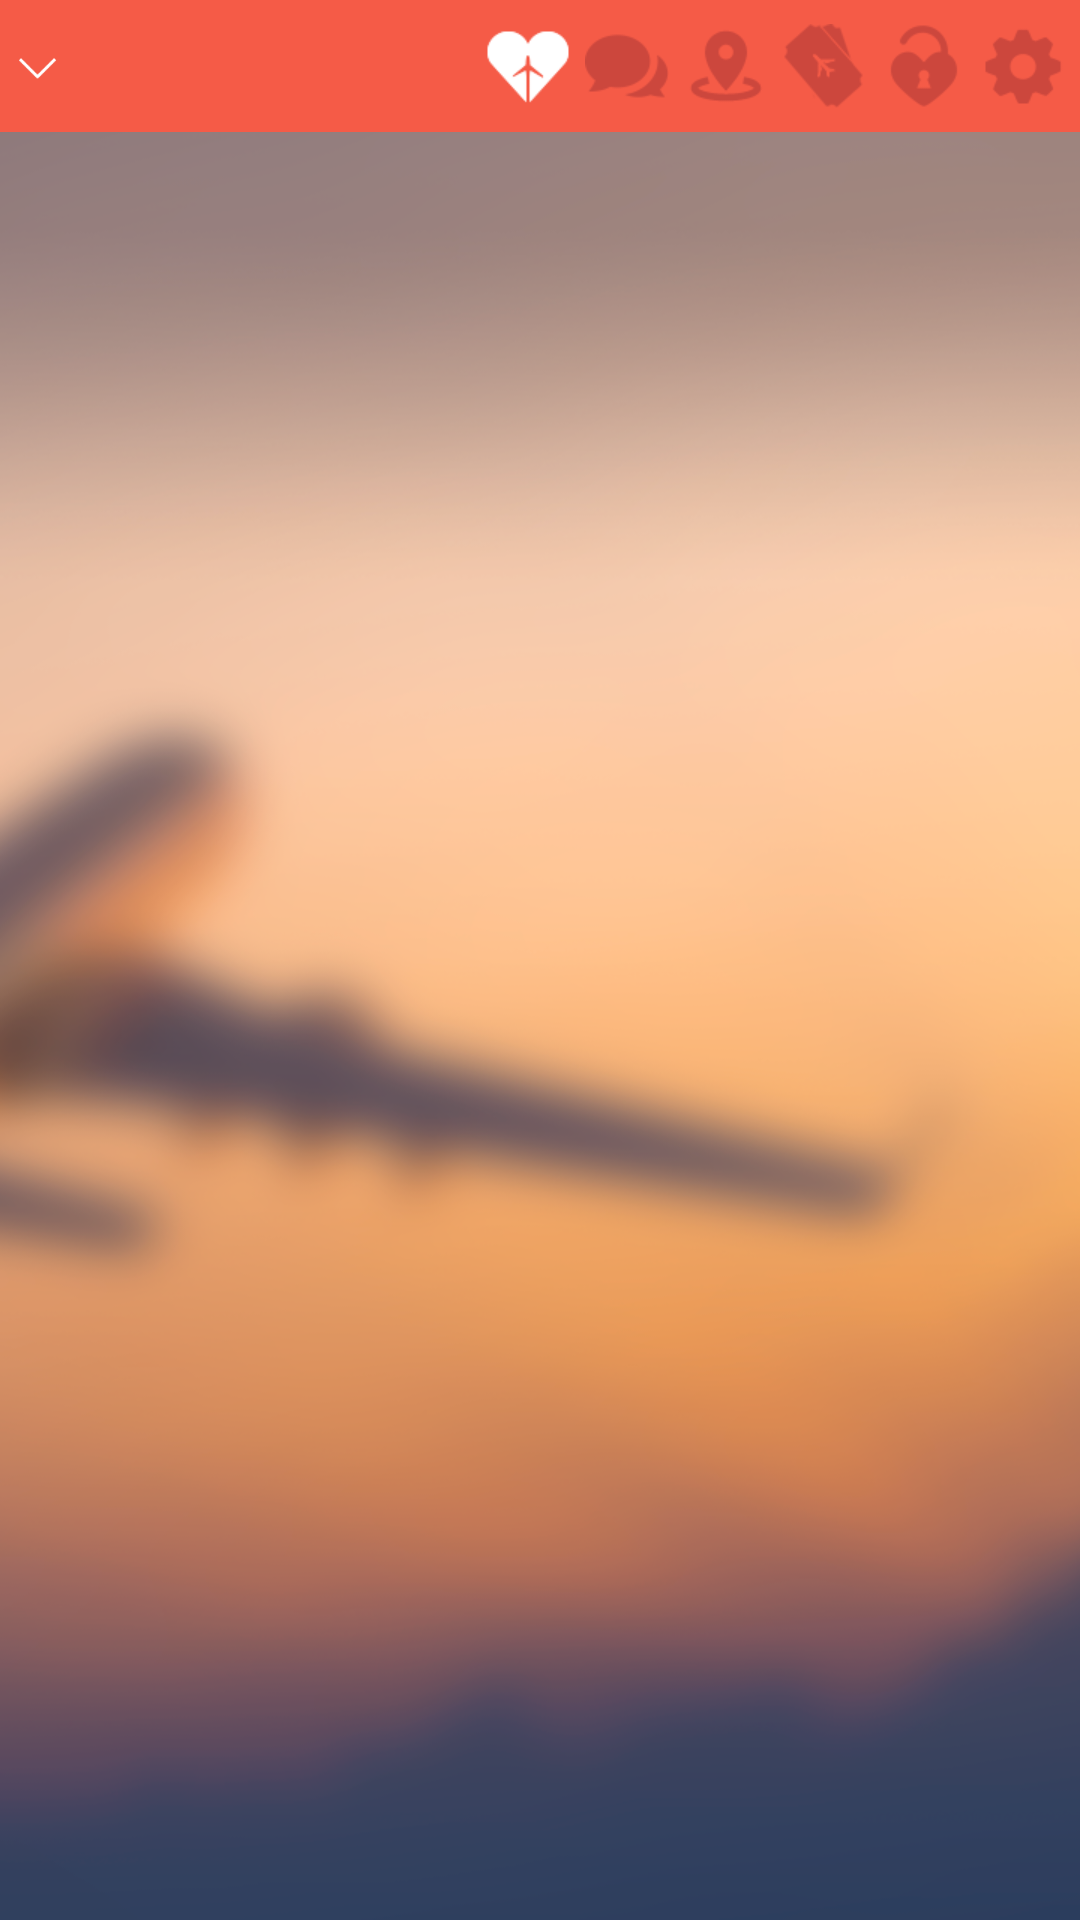

Named icons in this screenshot (1080x1920) and their centers, (x,y):
chatinactive: (626,66)
dropdown: (37,68)
homeactive: (528,66)
mapinactive: (726,66)
settingsinactive: (1023,66)
ticketinactive: (823,65)
unlockinactive: (924,66)
